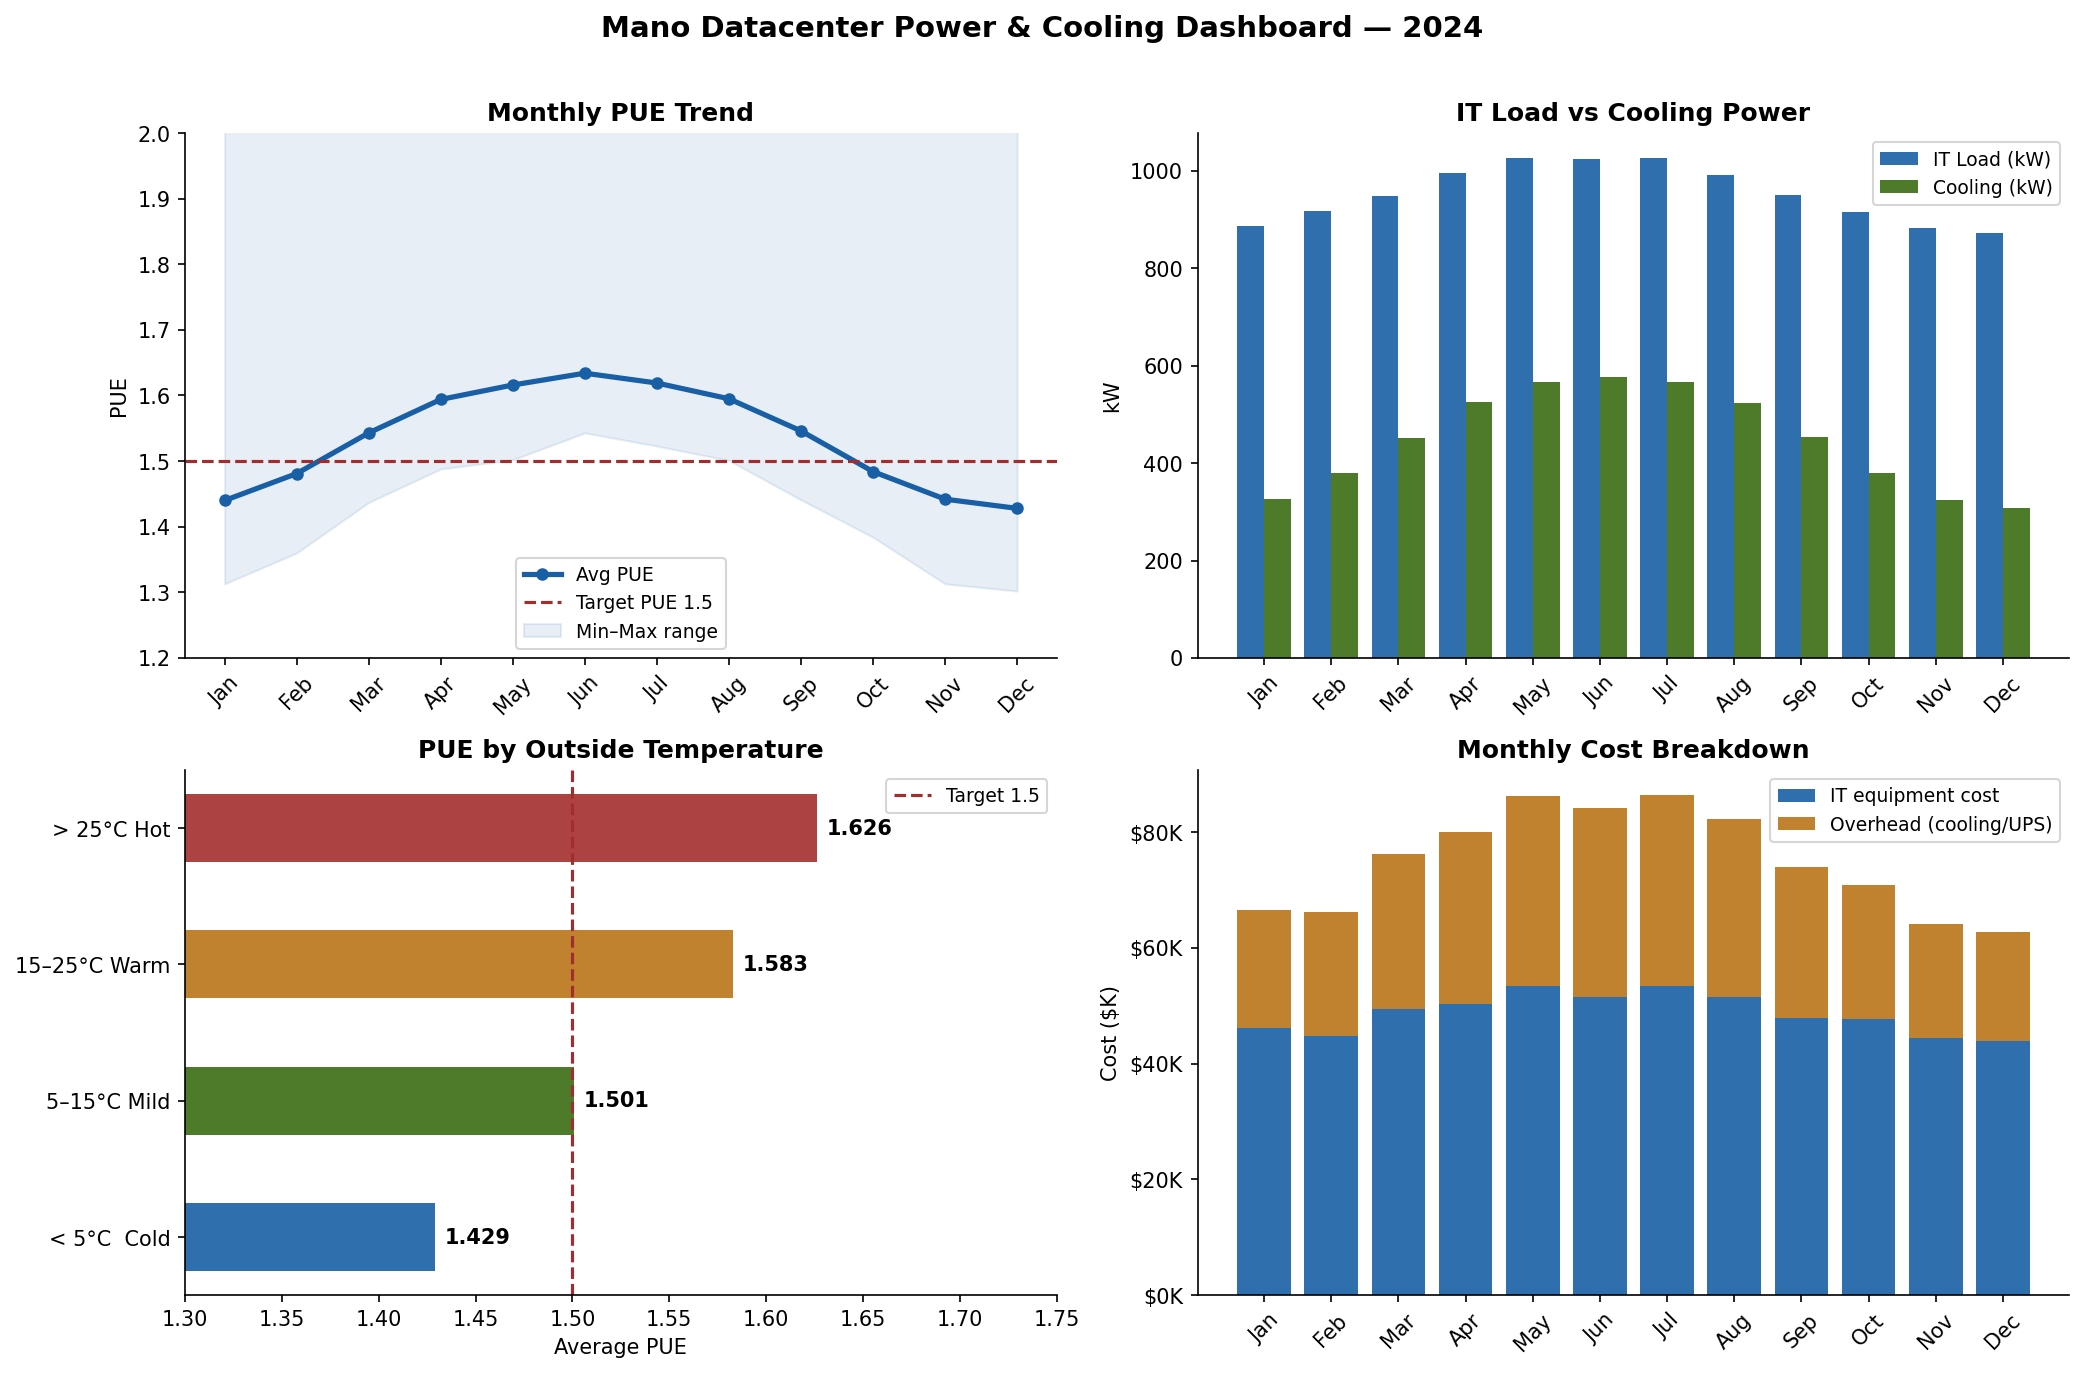

This screenshot's page, from the dashboard's own definition file:
{"tool":"powerbi","page":{"name":"Page 1","canvas":[1438,900],"ordinal":0},"visuals":[{"type":"shape","box":[0,0,280.3,900.7],"z":0},{"type":"shape","box":[270.4,0,996.1,75.6],"z":1000},{"type":"textbox","box":[19.1,52.5,225.9,111.3],"z":2000},{"type":"shape","box":[21.9,133.2,238.6,115.3],"z":3000},{"type":"shape","box":[17.9,377.8,242.6,184.9],"z":4000},{"type":"textbox","box":[19.1,202,117.7,31.8],"z":5000},{"type":"textbox","box":[53.7,544.8,163,35.8],"z":6000},{"type":"textbox","box":[49.7,598.5,127.2,45.7],"z":7000},{"type":"textbox","box":[19.9,481.2,115.3,47.7],"z":8000},{"type":"textbox","box":[77.5,654.1,97.4,39.8],"z":9000},{"type":"textbox","box":[45.7,248.5,153.1,43.7],"z":10000},{"type":"textbox","box":[61.6,292.3,115.3,37.8],"z":11000},{"type":"textbox","box":[61.6,346,137.2,39.8],"z":12000},{"type":"textbox","box":[77.5,397.7,192.9,51.7],"z":13000},{"type":"gauge","title":"PUE EFFICIENCY","fields":{"Y":["datacenter_power_data (2).Avg PUE"],"MinValue":["datacenter_power_data (2).PUE Min"],"MaxValue":["datacenter_power_data (2).PUE Max"],"TargetValue":["datacenter_power_data (2).Target PUE"]},"box":[284.3,79.5,306,324],"z":14000},{"type":"textbox","box":[336,365.8,210.8,31.8],"z":15000},{"type":"donutChart","title":"EFFICIENCY (DCiE)","fields":{"Y":["datacenter_power_data (2).Avg DCiE %","datacenter_power_data (2).DCiE Remainder"]},"box":[594.5,79.5,306.2,324.1],"z":16000},{"type":"textbox","box":[703.8,218.7,103.4,73.6],"z":17000},{"type":"textbox","box":[612.4,371.8,288.3,31.8],"z":18000},{"type":"columnChart","title":"ANOMALIES PER MONTH","fields":{"Y":["datacenter_power_data (2).Anomaly Count"],"Category":["monthly_summary.month_name"]},"box":[811.2,417.5,300.2,316.1],"z":19000},{"type":"lineChart","title":"PUE TREND VS TARGET","fields":{"Category":["monthly_summary.month_name"],"Y":["datacenter_power_data (2).Avg PUE"]},"box":[280.3,417.5,522.9,314.1],"z":20000},{"type":"columnChart","title":"MONTHLY COST BREAKDOWN","fields":{"Category":["monthly_summary.month_name"],"Y":["datacenter_power_data (2).IT Cost USD","datacenter_power_data (2).Overhead Cost USD"]},"box":[918.6,79.5,507,324.1],"z":21000},{"type":"shape","box":[280.3,737.6,841,163],"z":22000},{"type":"shape","box":[1135.3,407.6,302.2,493.1],"z":23000},{"type":"textbox","box":[336,17.9,415.5,43.7],"z":24000},{"type":"shape","box":[1171.1,0,252.5,75.6],"z":25000},{"type":"textbox","box":[1193,17.9,173,43.7],"z":26000},{"type":"shape","box":[916.6,0,252.5,75.6],"z":27000},{"type":"textbox","box":[954.4,17.9,167,43.7],"z":28000},{"type":"textbox","box":[312.2,755.5,785.4,129.2],"z":29000},{"type":"shape","box":[443.4,805.2,518.9,95.4],"z":30000},{"type":"shape","box":[1135.3,423.5,302.2,157.1],"z":31000},{"type":"shape","box":[1135.3,580.6,302.2,157.1],"z":32000},{"type":"shape","box":[1135.3,737.6,302.2,143.2],"z":33000},{"type":"textbox","box":[1151.2,457.3,272.4,87.5],"z":34000},{"type":"textbox","box":[1153.2,598.5,270.4,125.3],"z":35000},{"type":"textbox","box":[1167.1,755.5,256.5,111.3],"z":36000},{"type":"image","box":[1135.3,457.3,31.8,45.7],"z":37000},{"type":"image","box":[1135.3,576.6,35.8,67.6],"z":38000},{"type":"image","box":[1153.2,771.4,39.8,49.7],"z":39000},{"type":"image","box":[926.5,15.9,61.6,43.7],"z":40000},{"type":"image","box":[1171.1,17.9,57.7,35.8],"z":41000},{"type":"image","box":[37.8,349.9,99.4,63.6],"z":42000},{"type":"image","box":[55.7,662.1,19.9,29.8],"z":43000},{"type":"image","box":[47.7,407.6,27.8,19.9],"z":44000},{"type":"shape","box":[198.8,294.3,69.6,37.8],"z":45000},{"type":"shape","box":[198.8,397.7,69.6,37.8],"z":46000},{"type":"textbox","box":[208.8,294.3,51.7,37.8],"z":47000},{"type":"textbox","box":[216.7,397.7,43.7,33.8],"z":48000},{"type":"image","box":[55.7,346,31.8,39.8],"z":49000}]}

Visuals, with their boxes on the page's 1438x900 design canvas (x1, y1, x2, y2). These are canvas units, not pixel positions in the 2084x1373 screenshot, which may show the page scaled, cropped or inside an application window:
shape: 0 0 280 901
shape: 270 0 1266 76
textbox: 19 52 245 164
shape: 22 133 260 248
shape: 18 378 260 563
textbox: 19 202 137 234
textbox: 54 545 217 581
textbox: 50 598 177 644
textbox: 20 481 135 529
textbox: 78 654 175 694
textbox: 46 248 199 292
textbox: 62 292 177 330
textbox: 62 346 199 386
textbox: 78 398 270 449
"PUE EFFICIENCY" gauge: 284 80 590 404
textbox: 336 366 547 398
"EFFICIENCY (DCiE)" donutChart: 594 80 901 404
textbox: 704 219 807 292
textbox: 612 372 901 404
"ANOMALIES PER MONTH" columnChart: 811 418 1111 734
"PUE TREND VS TARGET" lineChart: 280 418 803 732
"MONTHLY COST BREAKDOWN" columnChart: 919 80 1426 404
shape: 280 738 1121 901
shape: 1135 408 1438 901
textbox: 336 18 752 62
shape: 1171 0 1424 76
textbox: 1193 18 1366 62
shape: 917 0 1169 76
textbox: 954 18 1121 62
textbox: 312 756 1098 885
shape: 443 805 962 901
shape: 1135 424 1438 581
shape: 1135 581 1438 738
shape: 1135 738 1438 881
textbox: 1151 457 1424 545
textbox: 1153 598 1424 724
textbox: 1167 756 1424 867
image: 1135 457 1167 503
image: 1135 577 1171 644
image: 1153 771 1193 821
image: 926 16 988 60
image: 1171 18 1229 54
image: 38 350 137 414
image: 56 662 76 692
image: 48 408 76 428
shape: 199 294 268 332
shape: 199 398 268 436
textbox: 209 294 260 332
textbox: 217 398 260 432
image: 56 346 88 386
